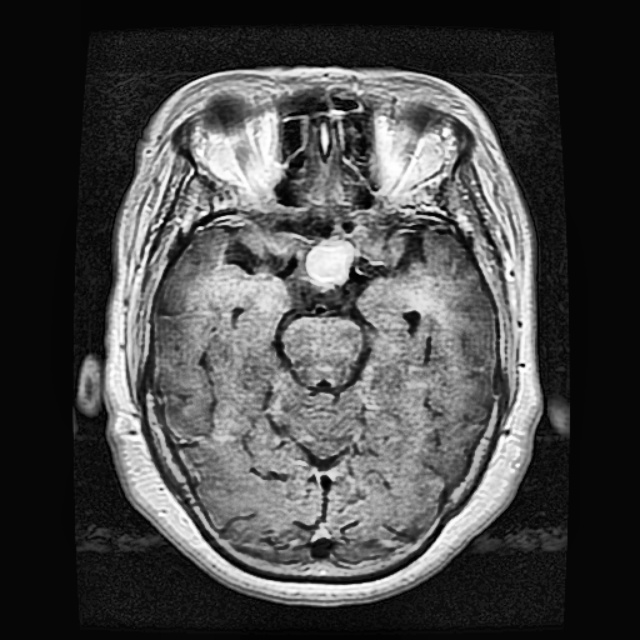Pituitary: (307, 240, 350, 283)
